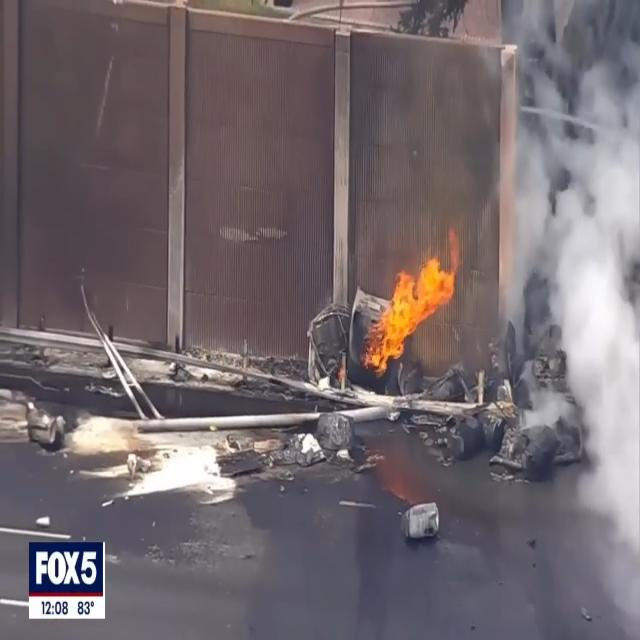fire: (363, 222, 462, 377)
